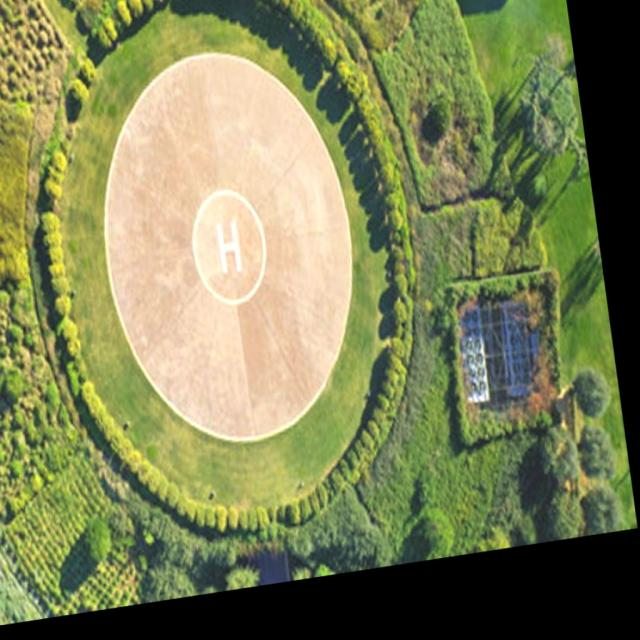helipad: (187, 186, 269, 308)
